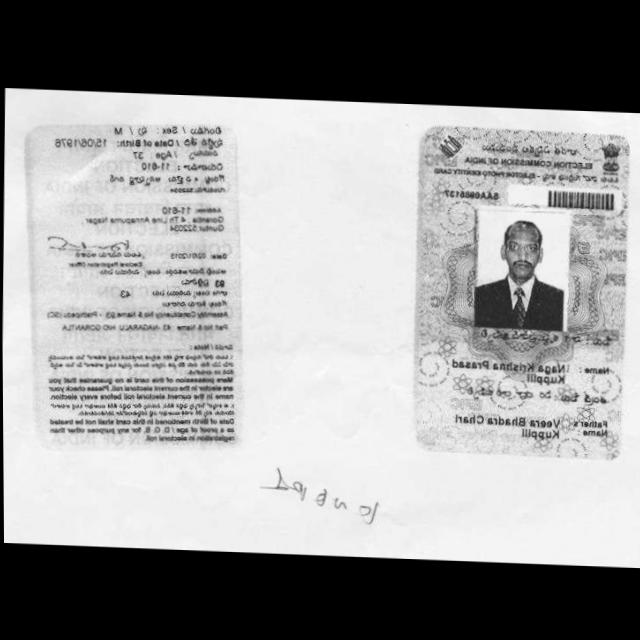voter_id: (404, 121, 636, 463)
